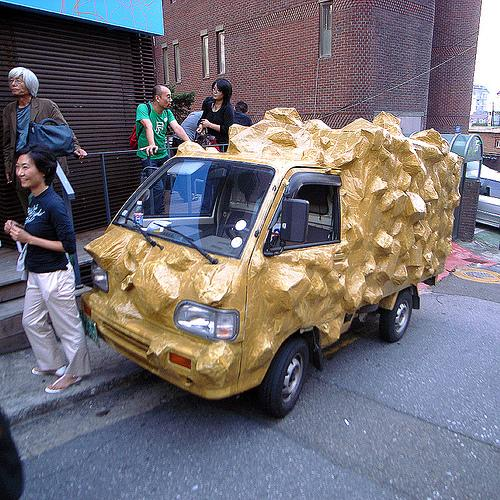truck: (75, 104, 485, 422)
